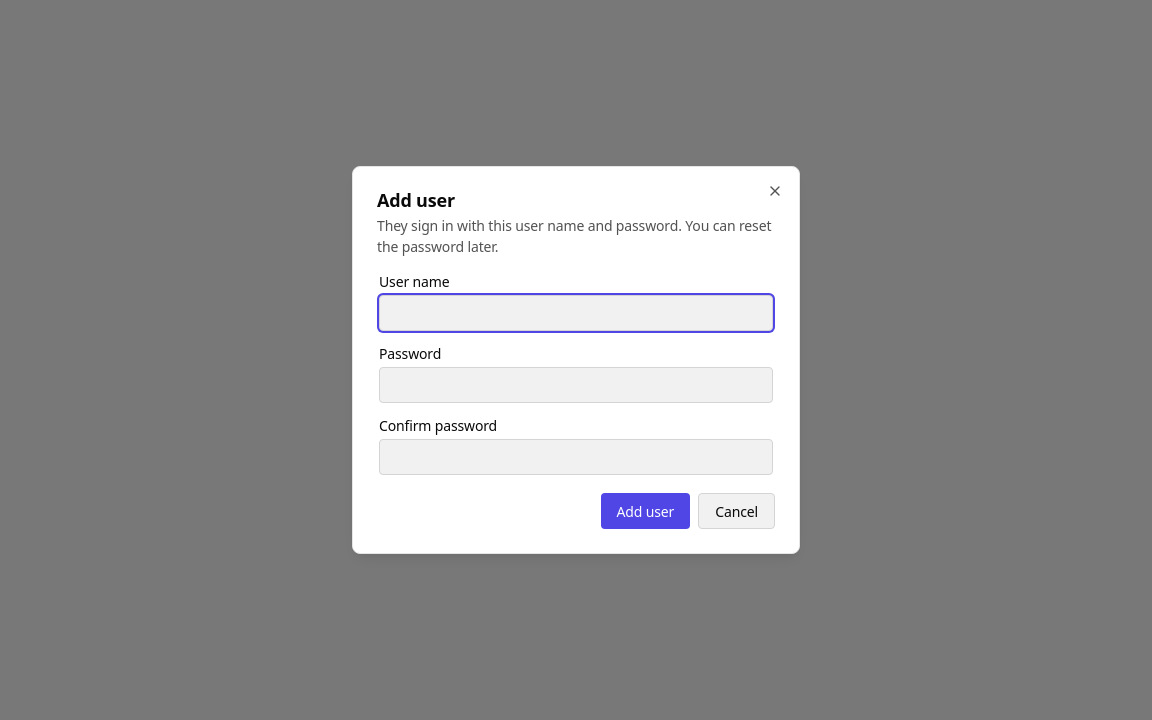
CreateUserDialog › lets go of the mismatch once Password is edited
This screenshot has width=1152, height=720.
Type " ivan " into the field labelled "User name" at (576, 313), box [379,295,773,331]
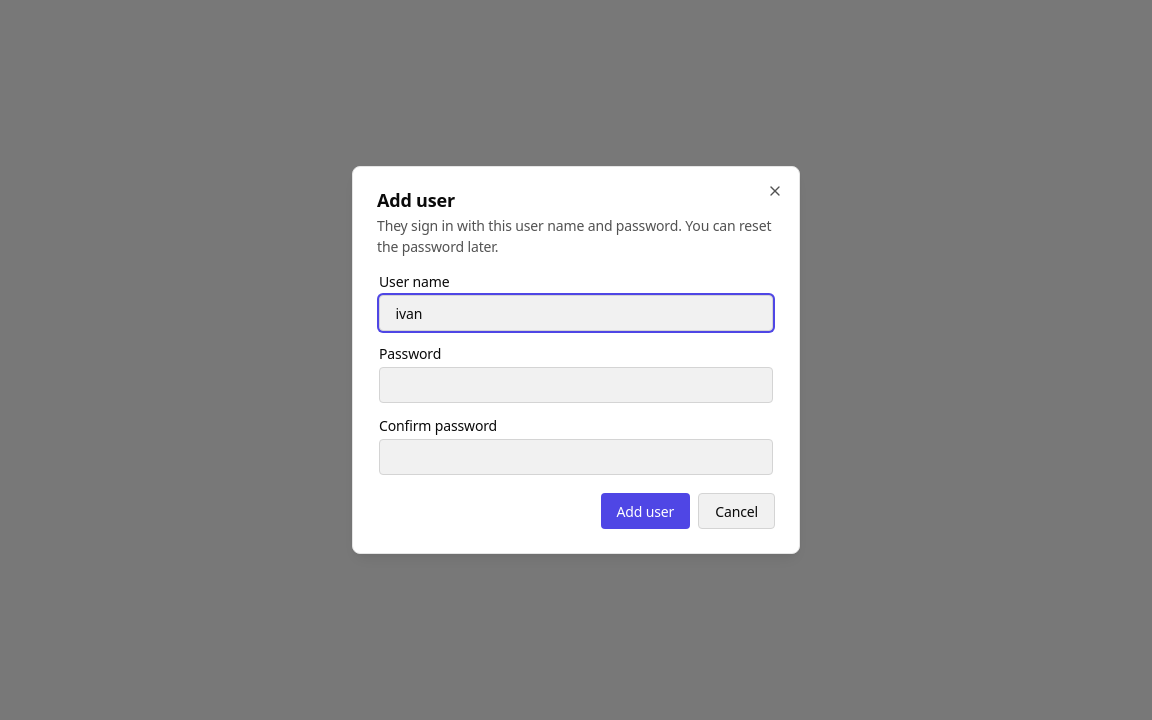
Type "correct horse battery" into the password field labelled "Password" at (576, 385), box [379,367,773,403]
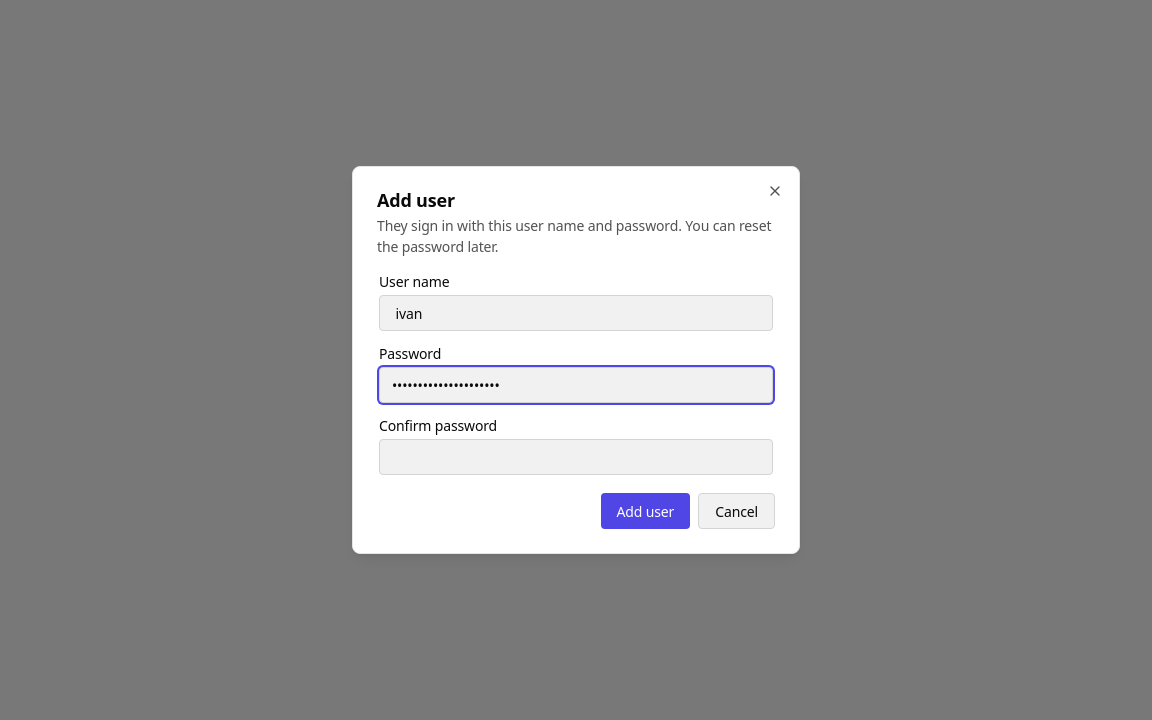
Type "correct horse batery" into the password field labelled "Confirm password" at (576, 457), box [379,439,773,475]
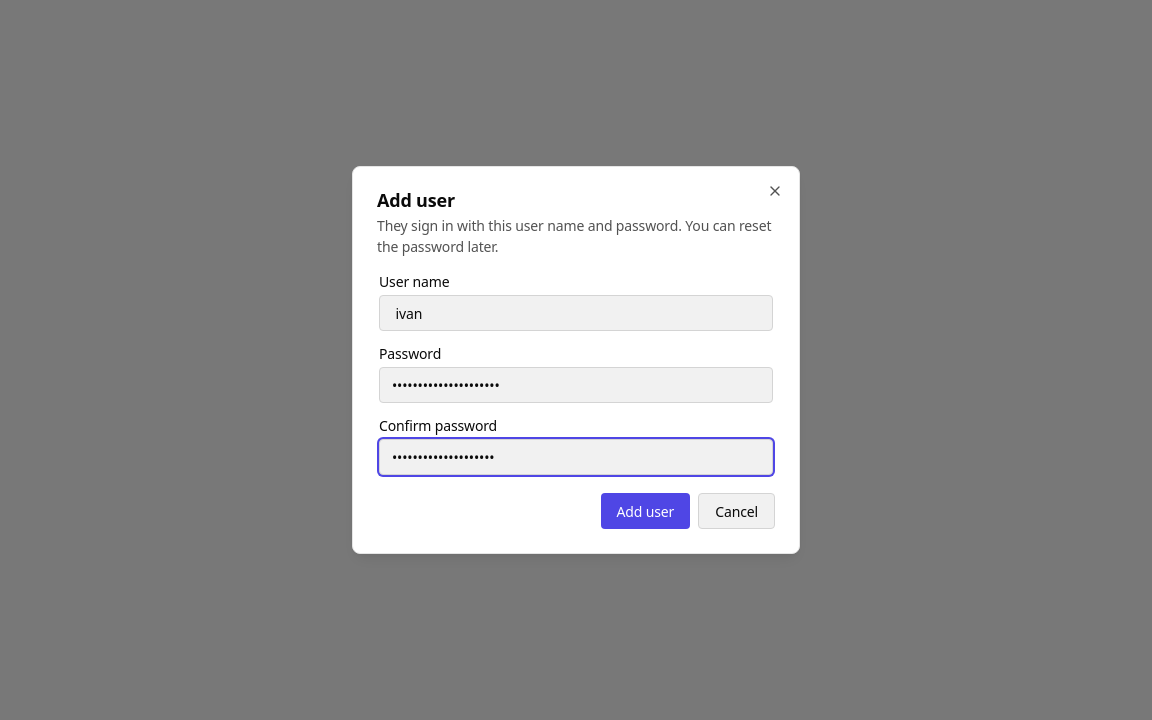
Click the button "Add user" at (645, 511), box [601,493,690,529]
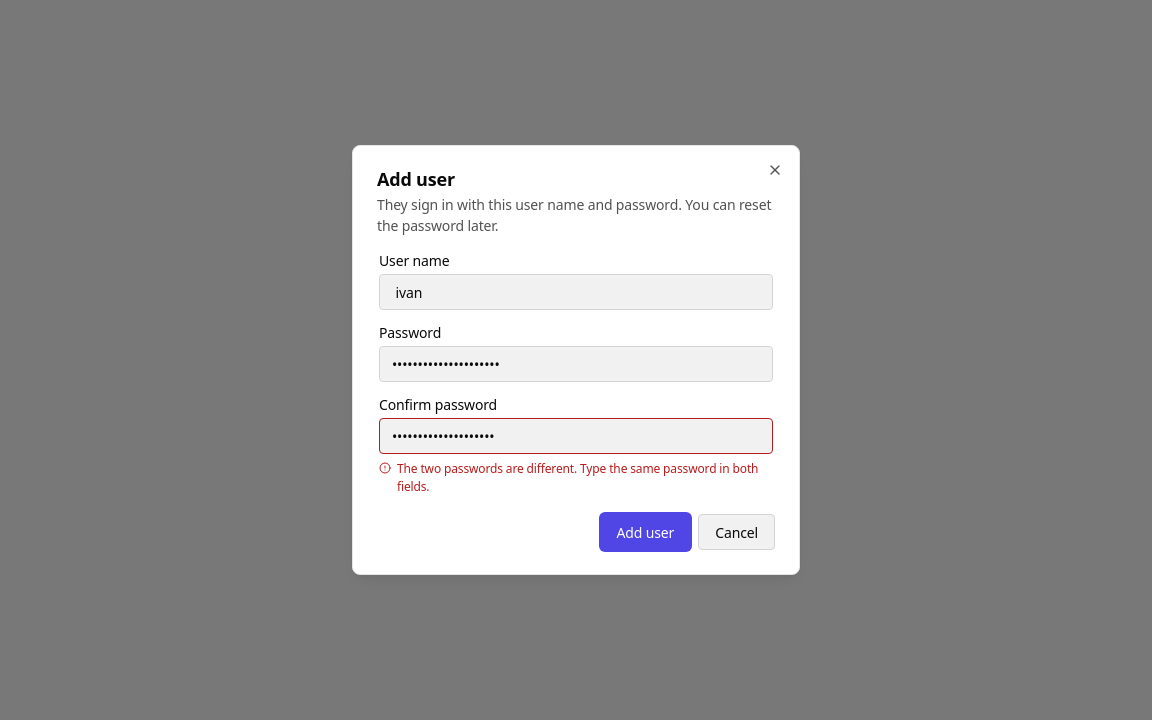
Type "y" into the password field labelled "Password" at (576, 364), box [379,346,773,382]
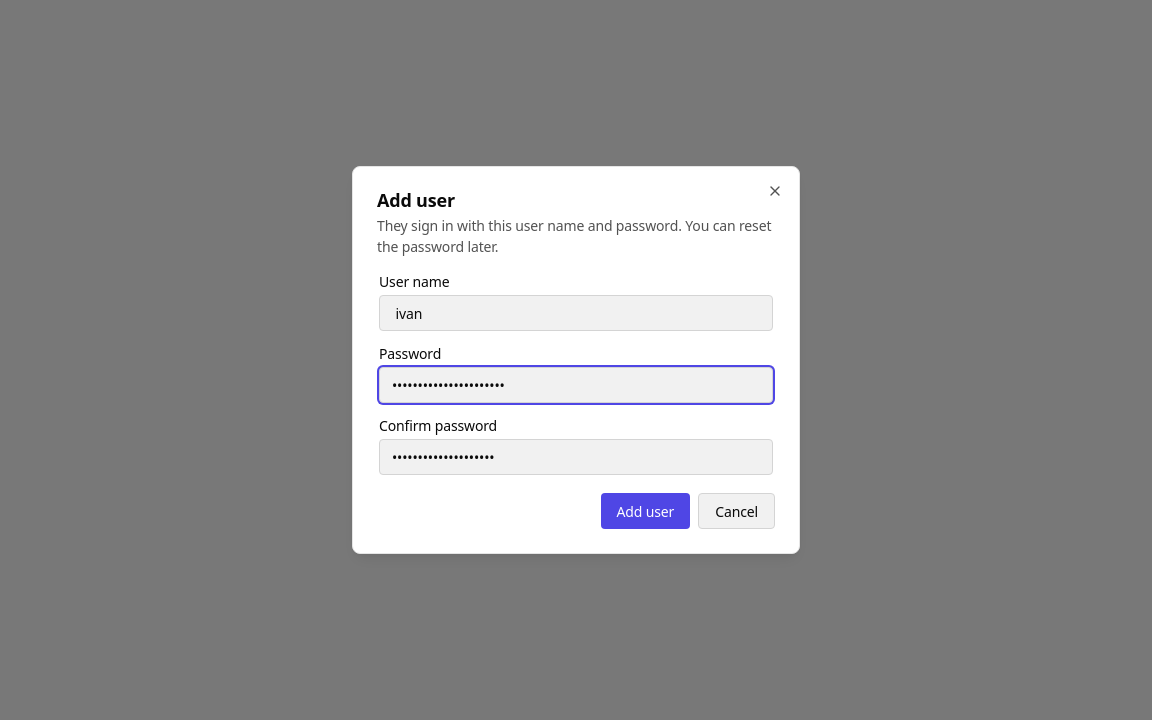
expect the message "The two passwords are different. Type the same password in both fields." is gone: met
